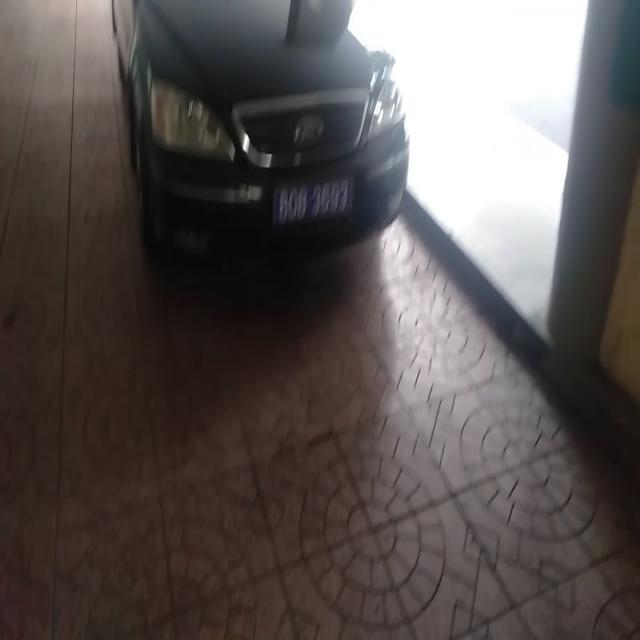bien_xanh: (276, 178, 354, 226)
